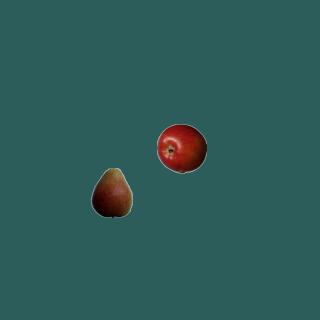Apple Braeburn: (156, 123, 206, 173)
Pear Forelle: (86, 167, 136, 217)
